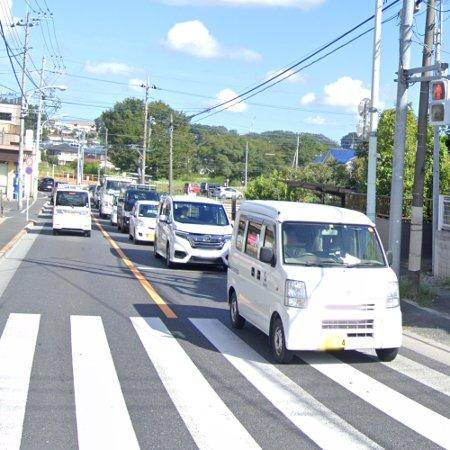crosswalks: (0, 308, 448, 450)
